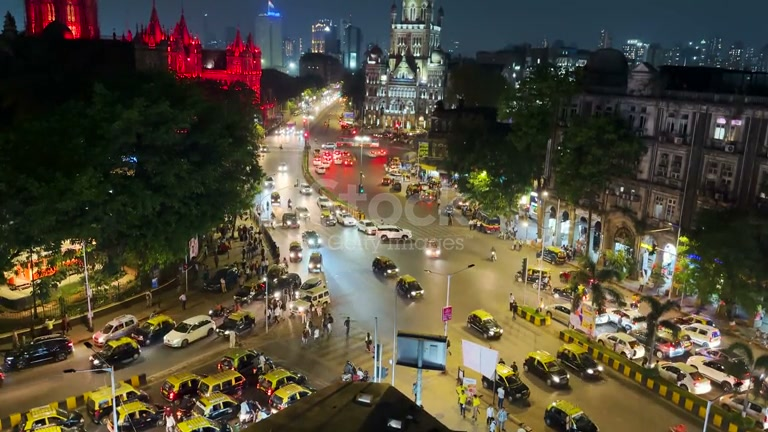car: (4, 335, 74, 371), (163, 314, 216, 350), (542, 398, 599, 431), (90, 336, 143, 371), (88, 314, 139, 350), (523, 353, 571, 390), (558, 350, 605, 382), (495, 372, 531, 407), (466, 309, 503, 340), (395, 274, 425, 299), (372, 256, 399, 279), (300, 274, 323, 289), (303, 230, 322, 247), (281, 212, 299, 228), (341, 216, 358, 227)
pedestrian: (485, 404, 496, 432), (343, 360, 354, 382), (509, 293, 517, 318)
